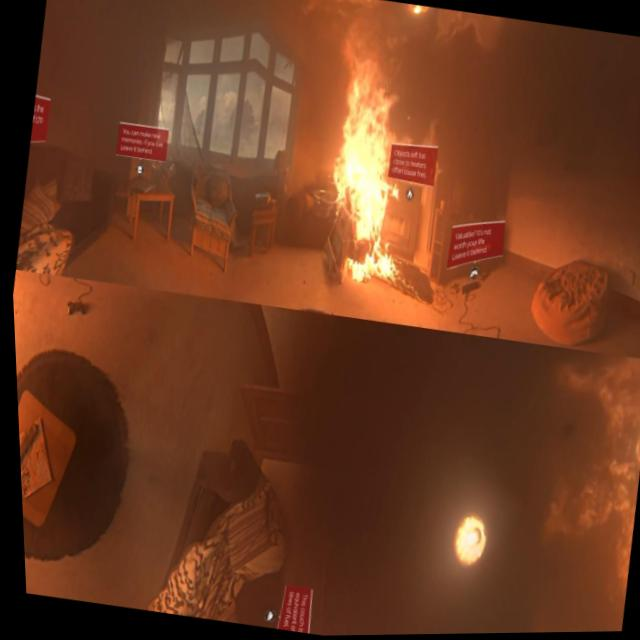fire: (305, 14, 433, 284)
